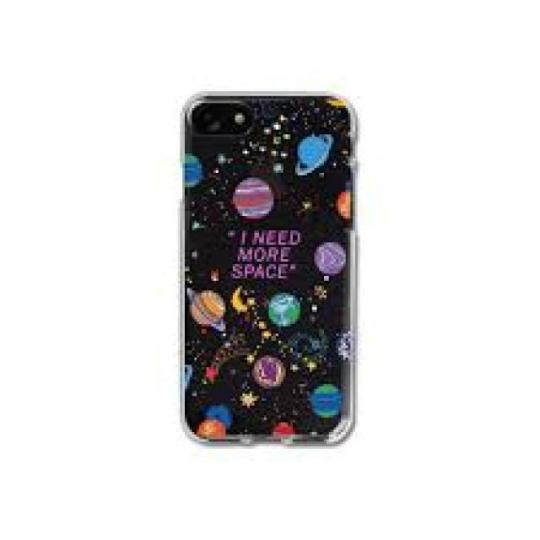phone: (168, 90, 361, 453)
